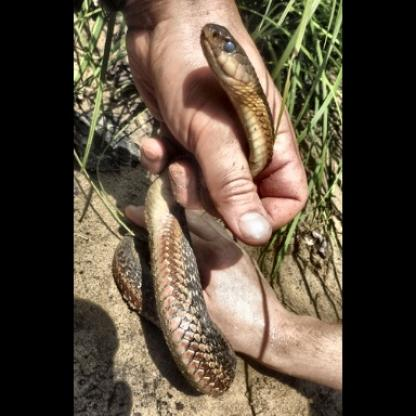Snake: (110, 23, 278, 396)
